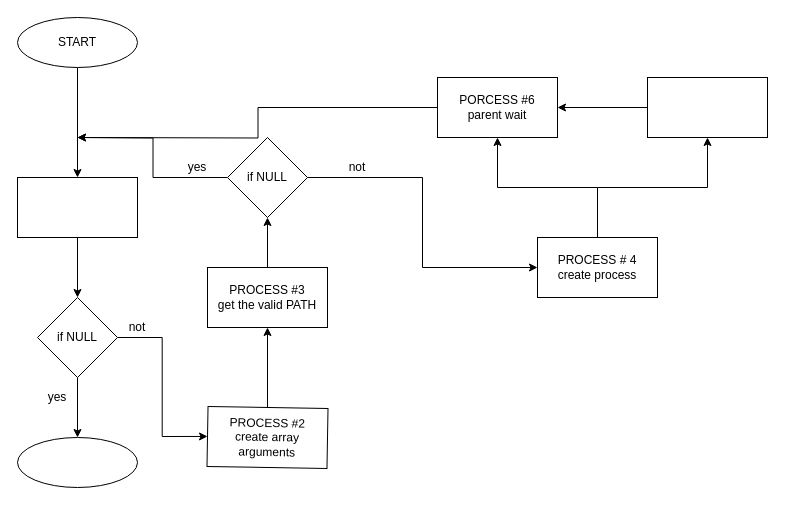
Some shapes in this 785 by 505 pixel diagram are drawn without their labels. The box of each missing label's shape, as (x1, y1, x2, y2) in pixels:
END: (16, 436, 138, 488)
PROCESS #1 prompt: (16, 176, 138, 238)
PROCESS #5 exec child process: (646, 76, 768, 138)
